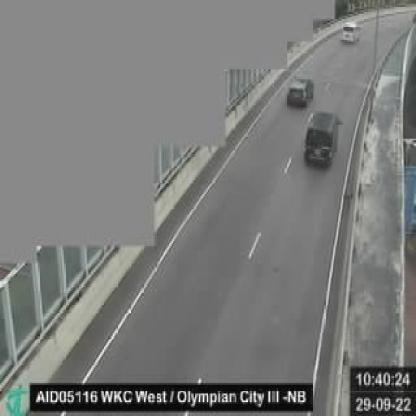Car: (304, 106, 343, 180), (280, 73, 317, 111), (336, 16, 366, 48)
